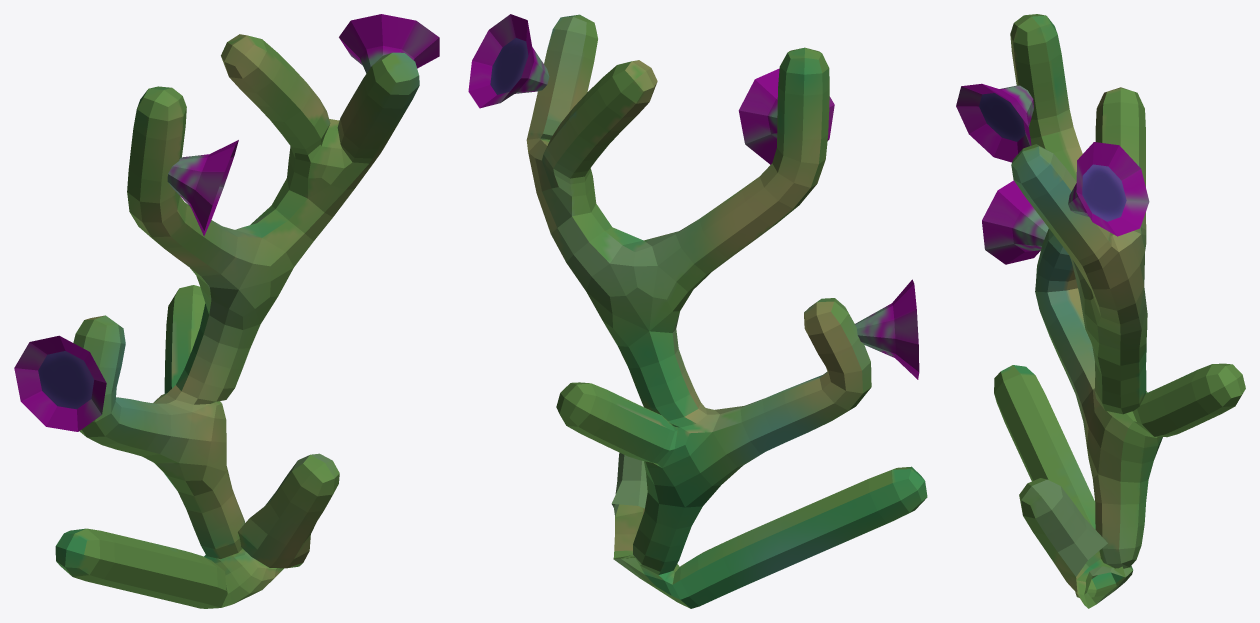
The model's file is Plant.glb.
3 renders of one model, left to right at view 1: azimuth 30°, elevation 25°; view 2: azimuth 150°, elevation 25°; view 3: azimuth 270°, elevation 25°, orthographic. The views are drawn at different scales.
Parts seen in each view (by area): view 1: Trunk, Flower.002, Flower, Flower.001; view 2: Trunk, Flower, Flower.002, Flower.001; view 3: Trunk, Flower, Flower.001, Flower.002.
Boxes of the visible parts, x1,y1,x2,y2 form: Trunk: (55, 34, 419, 608); Flower.002: (14, 335, 106, 431); Flower: (339, 14, 439, 73); Flower.001: (167, 140, 238, 236); Trunk: (526, 14, 927, 608); Flower: (468, 14, 549, 108); Flower.002: (855, 279, 919, 379); Flower.001: (738, 68, 834, 164); Trunk: (994, 14, 1245, 608); Flower: (1068, 142, 1149, 236); Flower.001: (956, 83, 1033, 162); Flower.002: (982, 180, 1048, 264).
Size of the model in its own units: 1.37 by 1.67 by 0.8144.
2 materials, 2 textured.
